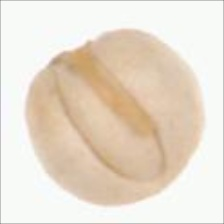L5: (49, 47, 172, 183)
L6: (23, 27, 206, 207)
